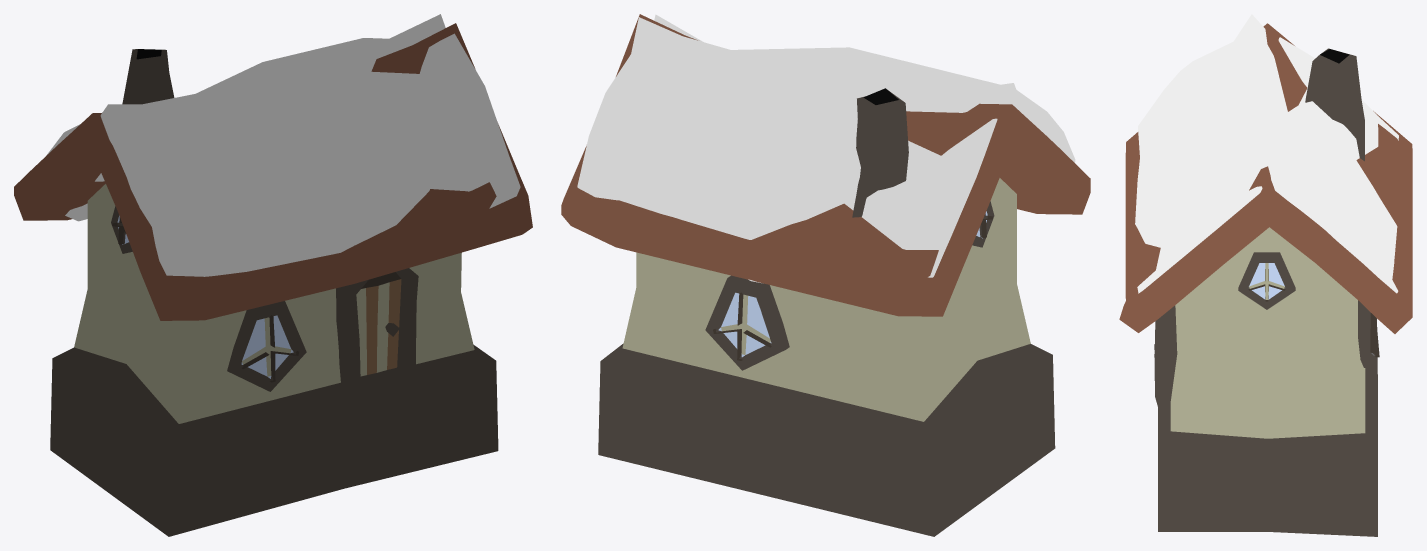
File: house_simple_04.dae
3 views of the same model, side by side, from view 1: azimuth 30°, elevation 25°; view 2: azimuth 150°, elevation 25°; view 3: azimuth 270°, elevation 25° (orthographic). The views are drawn at different scales.
Parts seen in each view (by area): view 1: house_simple_04-0; view 2: house_simple_04-0; view 3: house_simple_04-0.
Boxes of the visible parts, left/top/right/bottom form: house_simple_04-0: left=14, top=14, right=532, bottom=536; house_simple_04-0: left=561, top=14, right=1090, bottom=536; house_simple_04-0: left=1119, top=14, right=1412, bottom=536.
Bounding box in the file's own units: 8.69 × 9.06 × 6.52.
